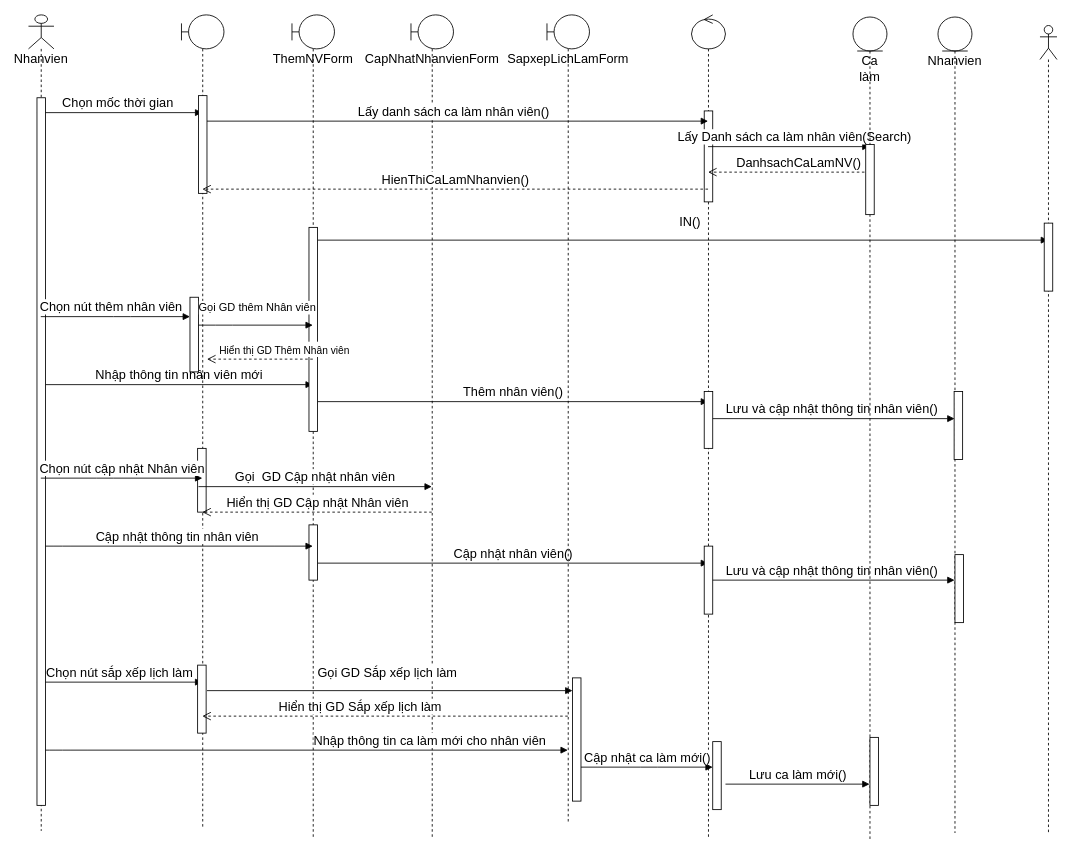
Some shapes in this 1080 by 857 pixel diagram are drawn without their labels. Each missing label, with the box of its shape:
MayIn: (1039, 25, 1057, 833)
NhanvienController: (691, 14, 725, 839)
QLNhanvien: (181, 14, 224, 827)
